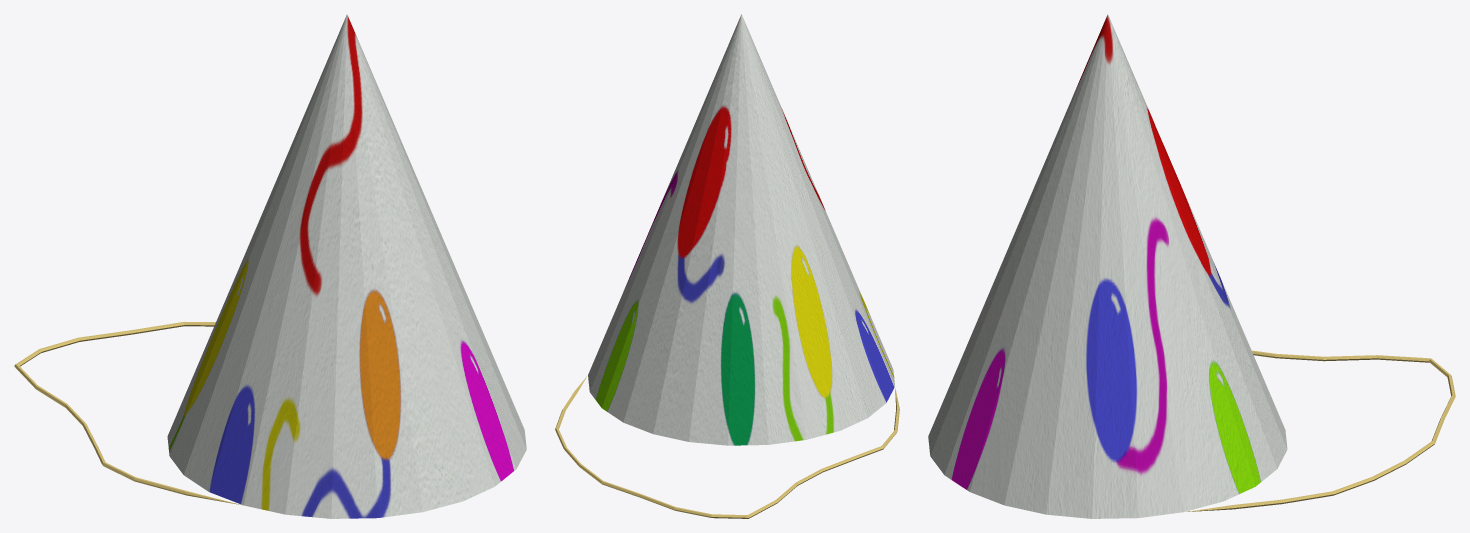
The model's file is pap-hat-obj.obj.
3 views of the same model, side by side, from view 1: azimuth 30°, elevation 25°; view 2: azimuth 150°, elevation 25°; view 3: azimuth 270°, elevation 25° (orthographic). The views are drawn at different scales.
Parts seen in each view (by area): view 1: pap_hat; view 2: pap_hat; view 3: pap_hat.
Part boxes in pixels (x1,y1,x2,y2): pap_hat: (14,14,526,518); pap_hat: (555,14,899,518); pap_hat: (928,14,1455,518).
Bounding box in the file's own units: 18.51 × 21.09 × 23.4.
Materials: 1 (1 with a texture image).
